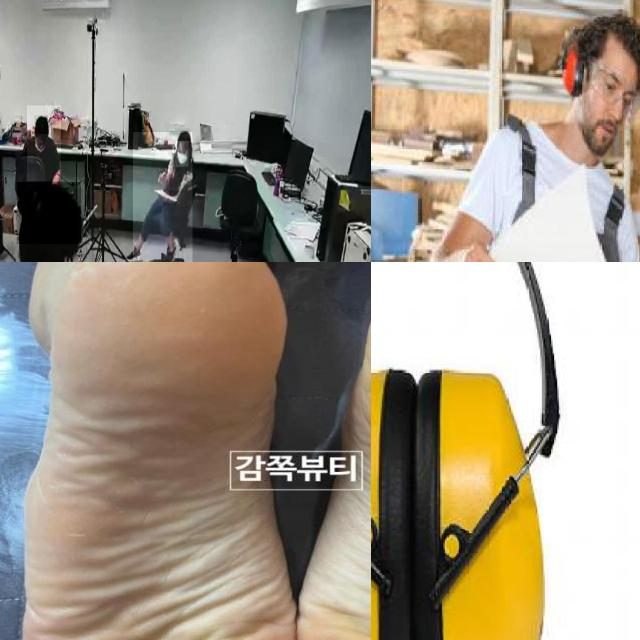Barefoots: (19, 262, 298, 640), (288, 262, 371, 640)
Ear-protection: (371, 262, 576, 640), (556, 45, 640, 114)
face_mask: (176, 141, 188, 167)
glasses: (588, 49, 640, 123)
hand_noglove: (158, 170, 168, 184)
head_nohelmet: (562, 5, 640, 168), (17, 182, 82, 245), (34, 115, 49, 135), (177, 128, 191, 142)
person: (424, 3, 640, 262), (133, 132, 193, 262), (27, 105, 61, 182)
shoes: (163, 235, 178, 262), (125, 245, 142, 262)
